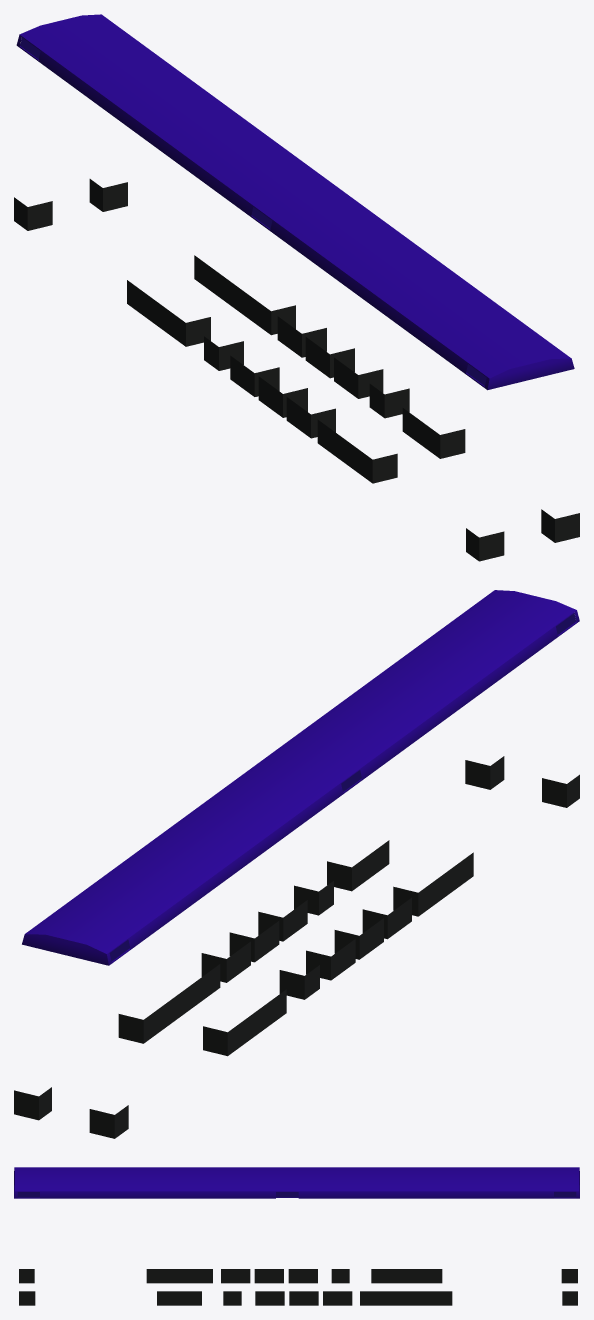
The model's file is RAPID_PANTA01.glb.
3 views of the same model, one above another, from view 1: azimuth 30°, elevation 25°; view 2: azimuth 150°, elevation 25°; view 3: azimuth 270°, elevation 25° (orthographic). The views are drawn at different scales.
Visible parts, largest first — view 1: Mesh1; view 2: Mesh1; view 3: Mesh1.
Part boxes in pixels (bbox=[...]): Mesh1: bbox=[14, 14, 579, 561]; Mesh1: bbox=[14, 590, 579, 1138]; Mesh1: bbox=[14, 1167, 579, 1305].
Size of the model in its own units: 5.27 by 9.41 by 42.66.
Materials: 2 (2 with a texture image).
